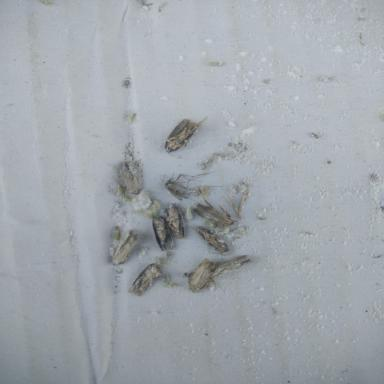pbw: (192, 189, 238, 227), (165, 117, 208, 156), (128, 262, 162, 296), (210, 255, 254, 278), (193, 226, 229, 254), (112, 229, 139, 266), (188, 258, 215, 293), (163, 202, 186, 239), (151, 214, 174, 251), (122, 158, 144, 195)
